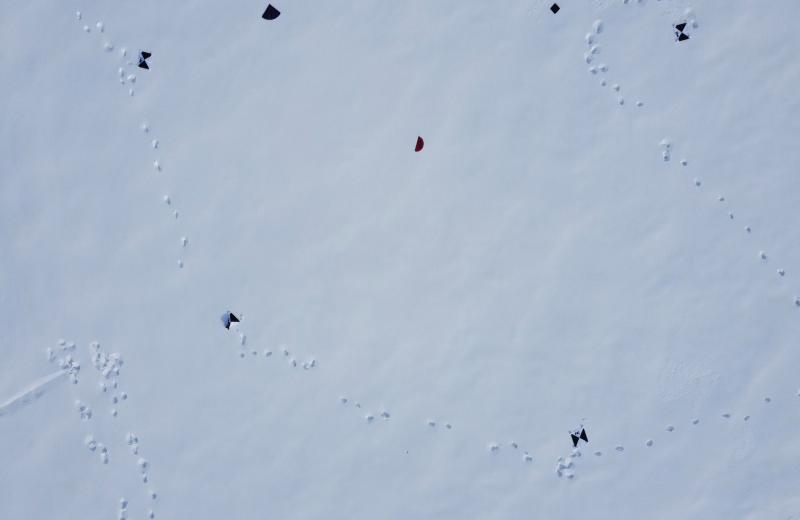Quarter Circle: (260, 3, 282, 21)
Semi Circle: (414, 136, 426, 152)
Square: (549, 2, 561, 15)
